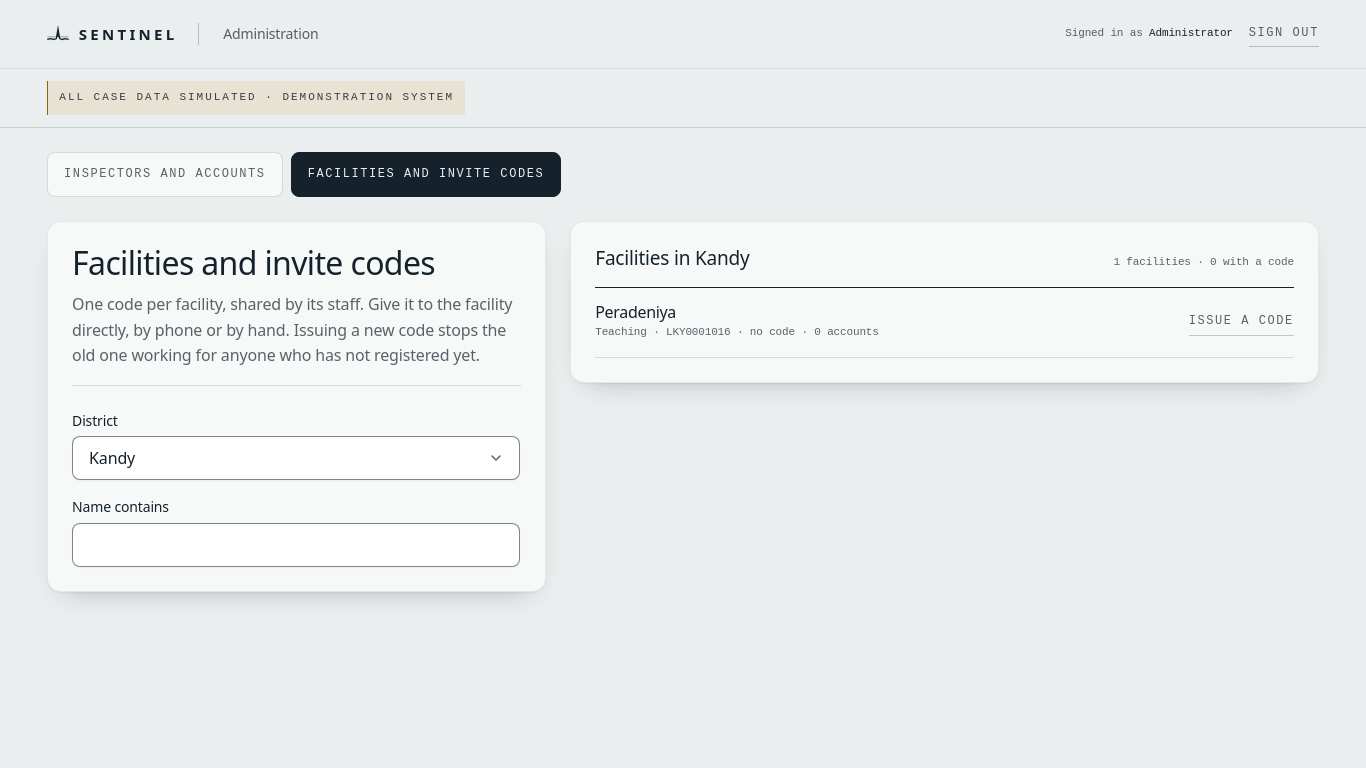
Test case: AdminPage: facilities › issues a code and shows it once
Click the button "Issue a code".
click(1241, 322)  # box [1189, 309, 1294, 336]
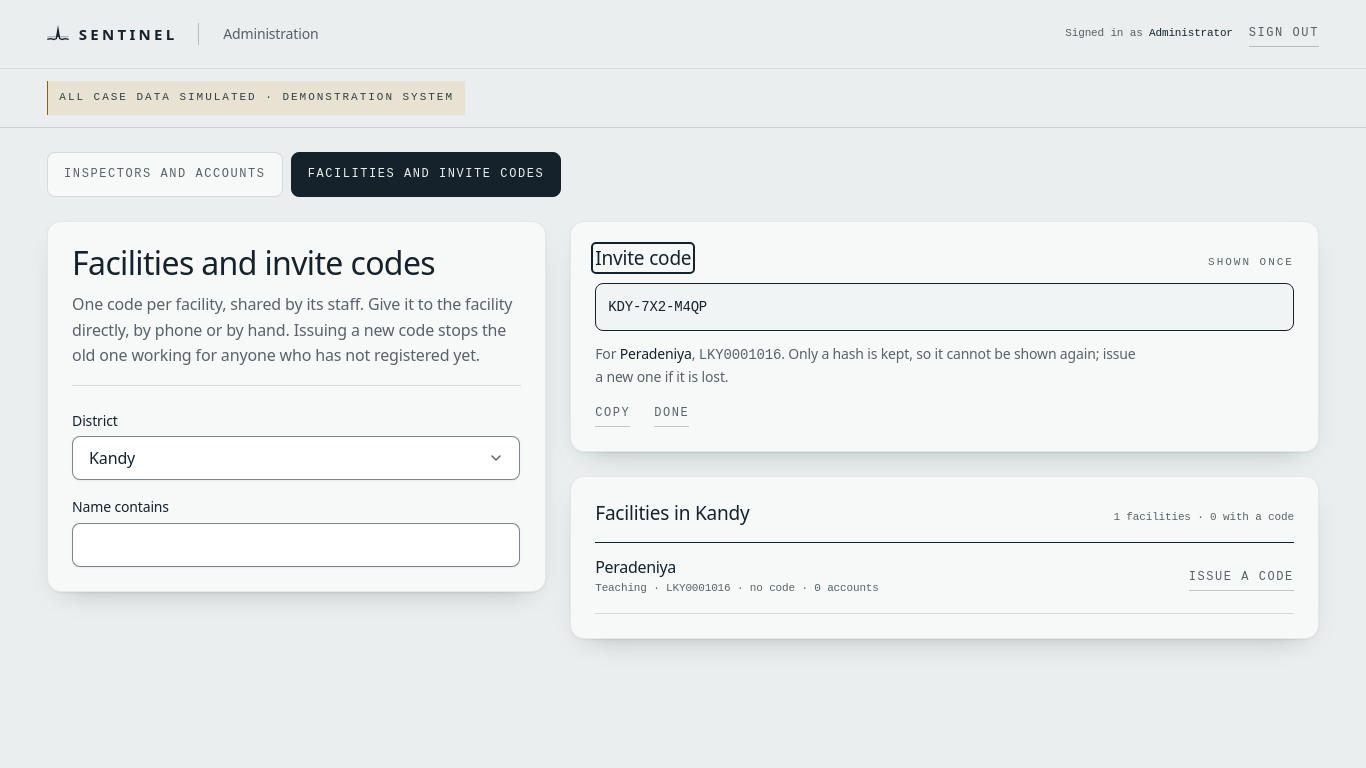
Now the element "Invite code" shows "KDY-7X2-M4QP", box [608, 299, 707, 315]
